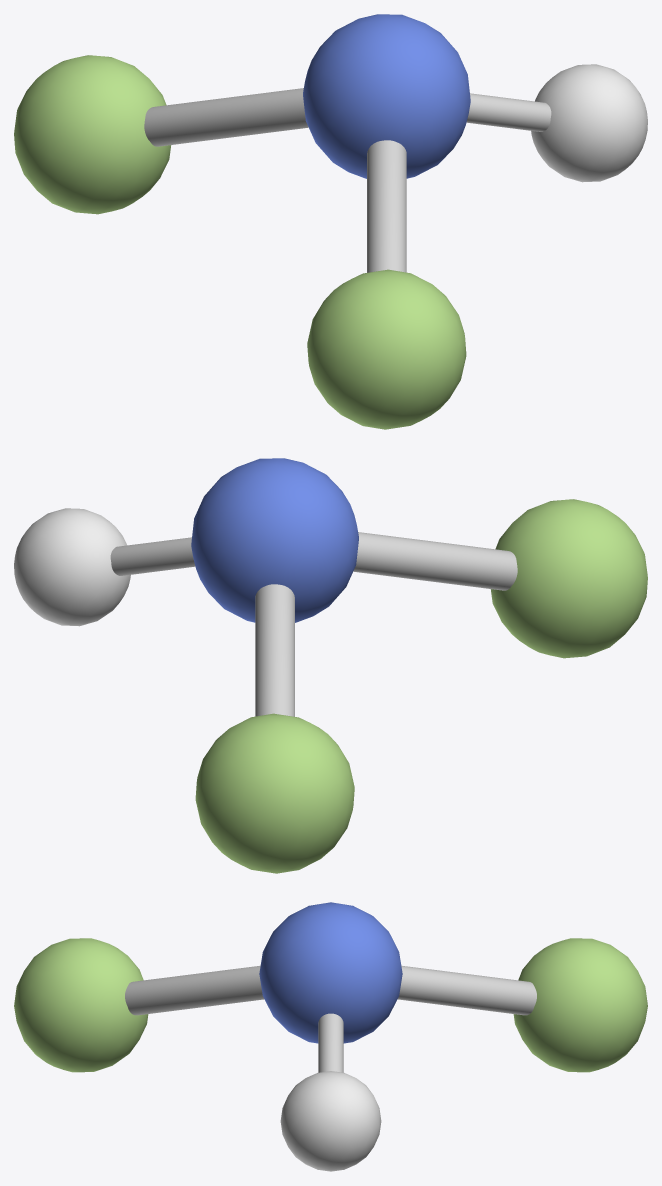
The model's file is NHF2.fbx.
3 renders of one model, top to bottom at view 1: azimuth 30°, elevation 25°; view 2: azimuth 150°, elevation 25°; view 3: azimuth 270°, elevation 25°, orthographic. The views are drawn at different scales.
Visible parts, largest first — view 1: Atom_0_N, Atom_3_F, Atom_4_F, Atom_2_H, Bond_002, Bond_001, Bond; view 2: Atom_0_N, Atom_4_F, Atom_3_F, Atom_2_H, Bond_001, Bond_002, Bond; view 3: Atom_0_N, Atom_4_F, Atom_3_F, Atom_2_H, Bond_002, Bond_001, Bond.
Part boxes in pixels (bbox=[...]): Atom_0_N: bbox=[303, 14, 470, 178]; Atom_3_F: bbox=[307, 269, 466, 429]; Atom_4_F: bbox=[14, 55, 171, 214]; Atom_2_H: bbox=[531, 64, 647, 182]; Bond_002: bbox=[144, 88, 308, 146]; Bond_001: bbox=[367, 140, 406, 272]; Bond: bbox=[466, 93, 551, 131]; Atom_0_N: bbox=[191, 458, 358, 622]; Atom_4_F: bbox=[195, 713, 354, 873]; Atom_3_F: bbox=[490, 499, 647, 658]; Atom_2_H: bbox=[14, 508, 130, 626]; Bond_001: bbox=[353, 532, 517, 590]; Bond_002: bbox=[255, 584, 294, 716]; Bond: bbox=[110, 537, 195, 575]; Atom_0_N: bbox=[259, 902, 402, 1043]; Atom_4_F: bbox=[513, 938, 647, 1072]; Atom_3_F: bbox=[14, 938, 148, 1072]; Atom_2_H: bbox=[280, 1071, 381, 1171]; Bond_002: bbox=[398, 965, 536, 1015]; Bond_001: bbox=[125, 965, 263, 1015]; Bond: bbox=[318, 1013, 343, 1072].
Size of the model in its own units: 1.99 by 1.04 by 2.74.
